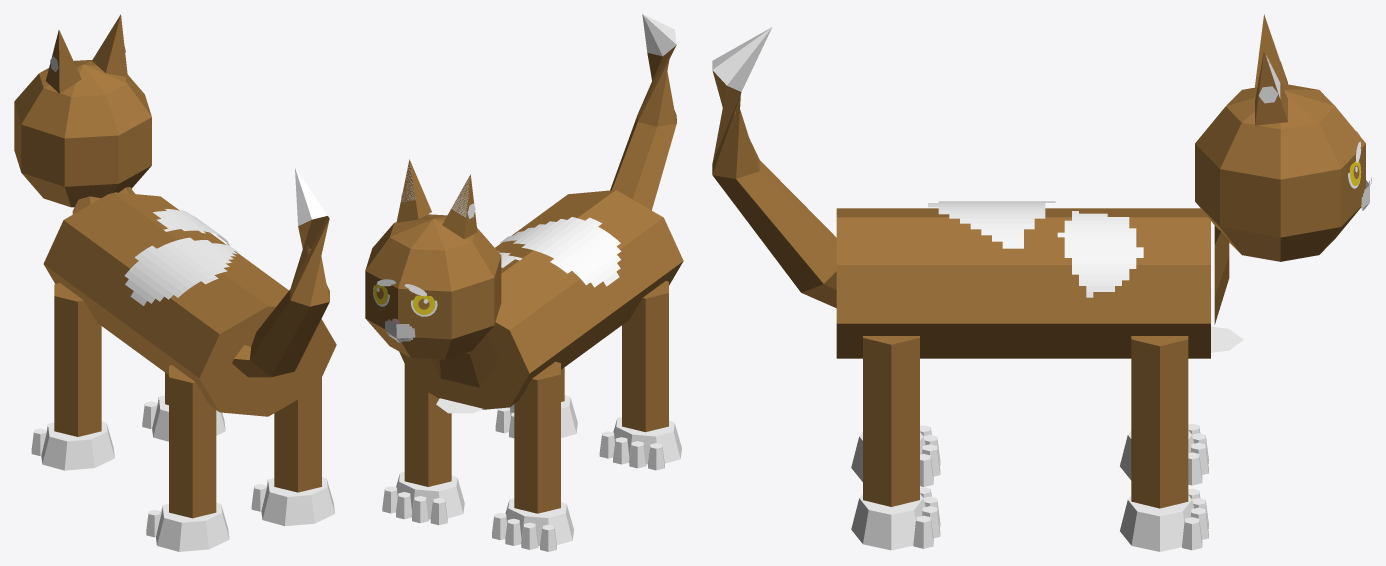
Rendered from cat-brown.fbx.
3 views of the same model, side by side, from view 1: azimuth 30°, elevation 25°; view 2: azimuth 150°, elevation 25°; view 3: azimuth 270°, elevation 25° (orthographic). The views are drawn at different scales.
Parts seen in each view (by area): view 1: Cat_BlackMat_body, Cat_BlackMat_head, Cat_BlackMat_frontL_leg, Cat_BlackMat_backL_leg, Cat_BlackMat_tail, Cat_WhiteMat_spot_1, Cat_BlackMat_backR_leg, Cat_WhiteMat_frontL_paw, Cat_WhiteMat_backL_paw, Cat_WhiteMat_backR_paw, Cat_BlackMat_ear_R, Cat_BlackMat_ear_L (+4 smaller); view 2: Cat_BlackMat_body, Cat_BlackMat_head, Cat_BlackMat_frontL_leg, Cat_BlackMat_backL_leg, Cat_BlackMat_tail, Cat_WhiteMat_spot_1, Cat_BlackMat_frontR_leg, Cat_WhiteMat_frontR_paw, Cat_WhiteMat_frontL_paw, Cat_WhiteMat_backL_paw, Cat_BlackMat_neck, Cat_BlackMat_ear_R (+5 smaller); view 3: Cat_BlackMat_body, Cat_BlackMat_head, Cat_BlackMat_tail, Cat_BlackMat_frontR_leg, Cat_BlackMat_backR_leg, Cat_WhiteMat_spot_2, Cat_WhiteMat_frontR_paw, Cat_WhiteMat_backR_paw, Cat_WhiteMat_spot_1, Cat_WhiteMat_tailTip, Cat_WhiteMat_frontL_paw, Cat_WhiteMat_backL_paw (+3 smaller).
Boxes of the visible parts, x1,y1,x2,y2 form: Cat_BlackMat_body: (43,192,336,416); Cat_BlackMat_head: (14,60,151,207); Cat_BlackMat_frontL_leg: (54,283,101,436); Cat_BlackMat_backL_leg: (169,365,216,518); Cat_BlackMat_tail: (250,216,329,377); Cat_WhiteMat_spot_1: (124,237,238,305); Cat_BlackMat_backR_leg: (274,378,321,492); Cat_WhiteMat_frontL_paw: (31,421,114,470); Cat_WhiteMat_backL_paw: (146,502,229,551); Cat_WhiteMat_backR_paw: (251,477,334,526); Cat_BlackMat_ear_R: (92,14,127,76); Cat_BlackMat_ear_L: (46,30,81,93); Cat_BlackMat_body: (399,190,683,409); Cat_BlackMat_head: (365,214,501,359); Cat_BlackMat_frontL_leg: (514,361,560,513); Cat_BlackMat_backL_leg: (622,281,668,432); Cat_BlackMat_tail: (610,45,676,210); Cat_WhiteMat_spot_1: (500,217,621,287); Cat_BlackMat_frontR_leg: (404,364,451,486); Cat_WhiteMat_frontR_paw: (382,471,464,525); Cat_WhiteMat_frontL_paw: (492,498,573,551); Cat_WhiteMat_backL_paw: (599,417,681,470); Cat_BlackMat_neck: (431,334,499,387); Cat_BlackMat_ear_R: (396,159,431,222); Cat_BlackMat_body: (836,208,1210,358); Cat_BlackMat_head: (1195,84,1365,261); Cat_BlackMat_tail: (712,70,836,292); Cat_BlackMat_frontR_leg: (1131,336,1188,508); Cat_BlackMat_backR_leg: (863,336,919,506); Cat_WhiteMat_spot_2: (1057,211,1143,297); Cat_WhiteMat_frontR_paw: (1120,488,1208,551); Cat_WhiteMat_backR_paw: (851,487,940,550); Cat_WhiteMat_spot_1: (928,201,1055,248); Cat_WhiteMat_tailTip: (712,27,772,91); Cat_WhiteMat_frontL_paw: (1120,423,1208,485); Cat_WhiteMat_backL_paw: (851,425,940,486).
Bounding box in the file's own units: 138 × 285 × 361.
